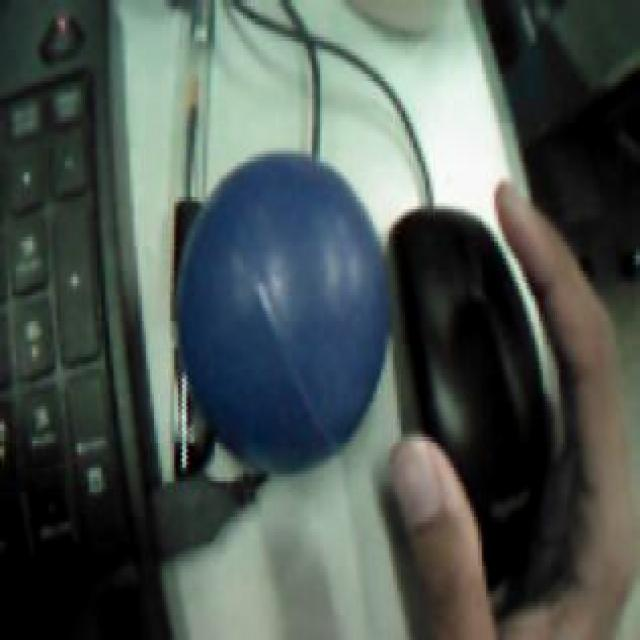BallPurple: (178, 154, 390, 475)
